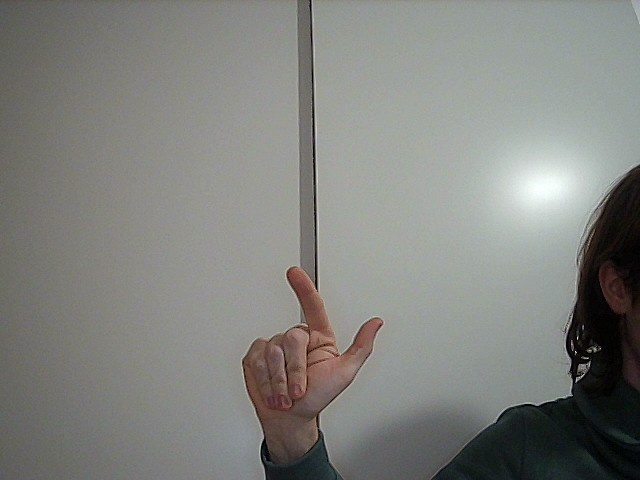t: (210, 245, 400, 427)
